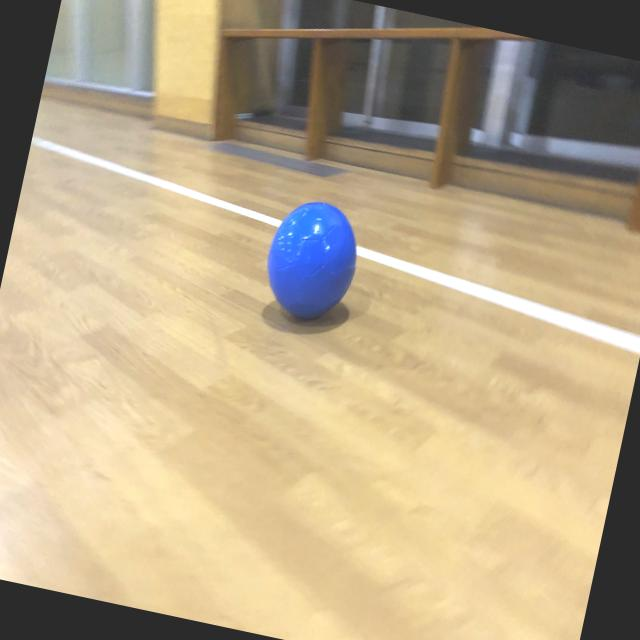blue_ball: (256, 194, 364, 326)
